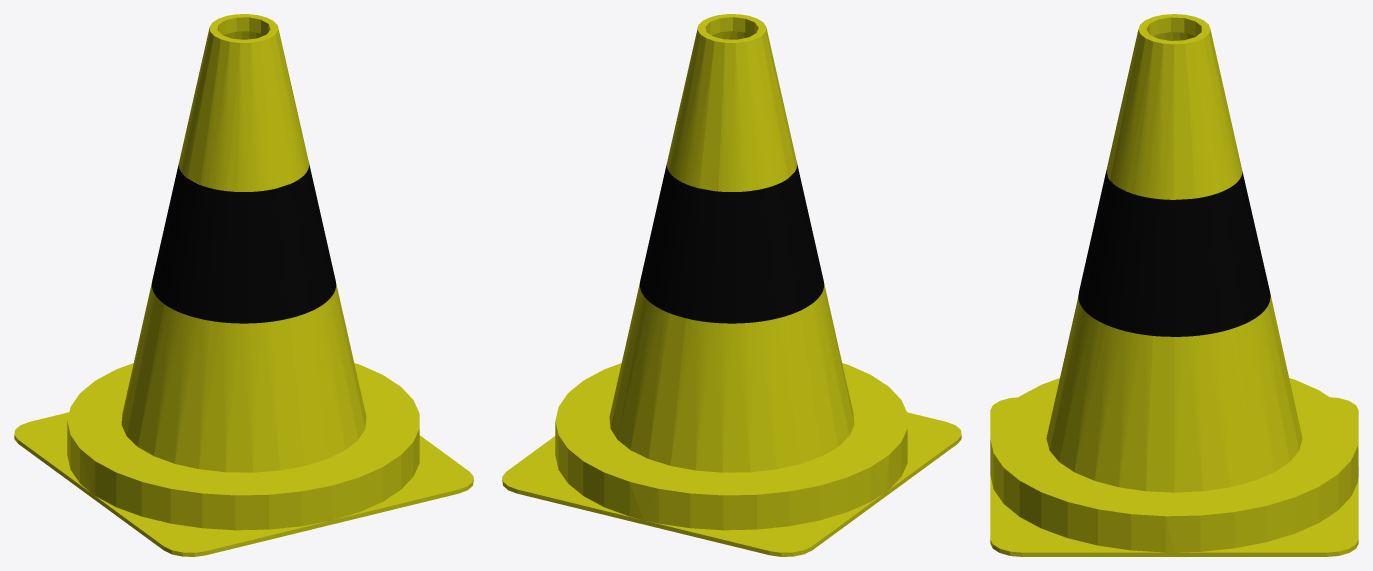
File: yellow.fbx
The picture shows the model from 3 angles, left to right: view 1: azimuth 30°, elevation 25°; view 2: azimuth 150°, elevation 25°; view 3: azimuth 270°, elevation 25°; orthographic projection. The views are drawn at different scales.
Visible parts, largest first — view 1: yellow cone stl; view 2: yellow cone stl; view 3: yellow cone stl.
Boxes of the visible parts, x1,y1,x2,y2 form: yellow cone stl: [14, 14, 473, 556]; yellow cone stl: [502, 14, 961, 556]; yellow cone stl: [990, 14, 1358, 556].
Size of the model in its own units: 23 by 31 by 23.
